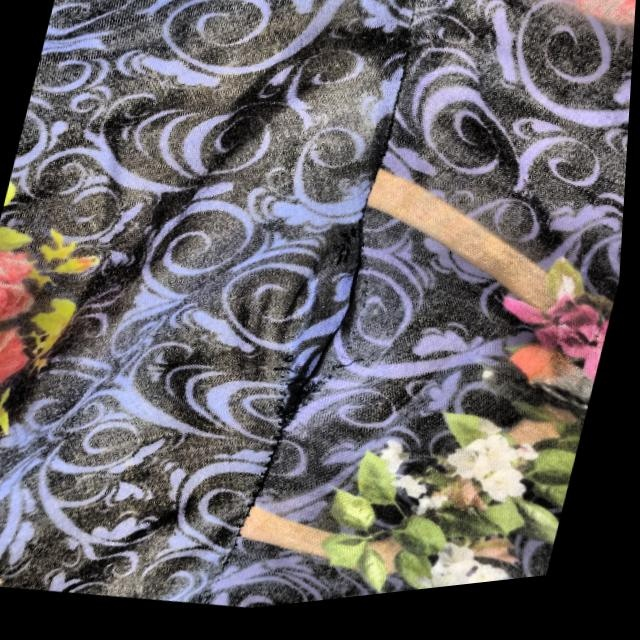seam: (220, 172, 427, 472)
